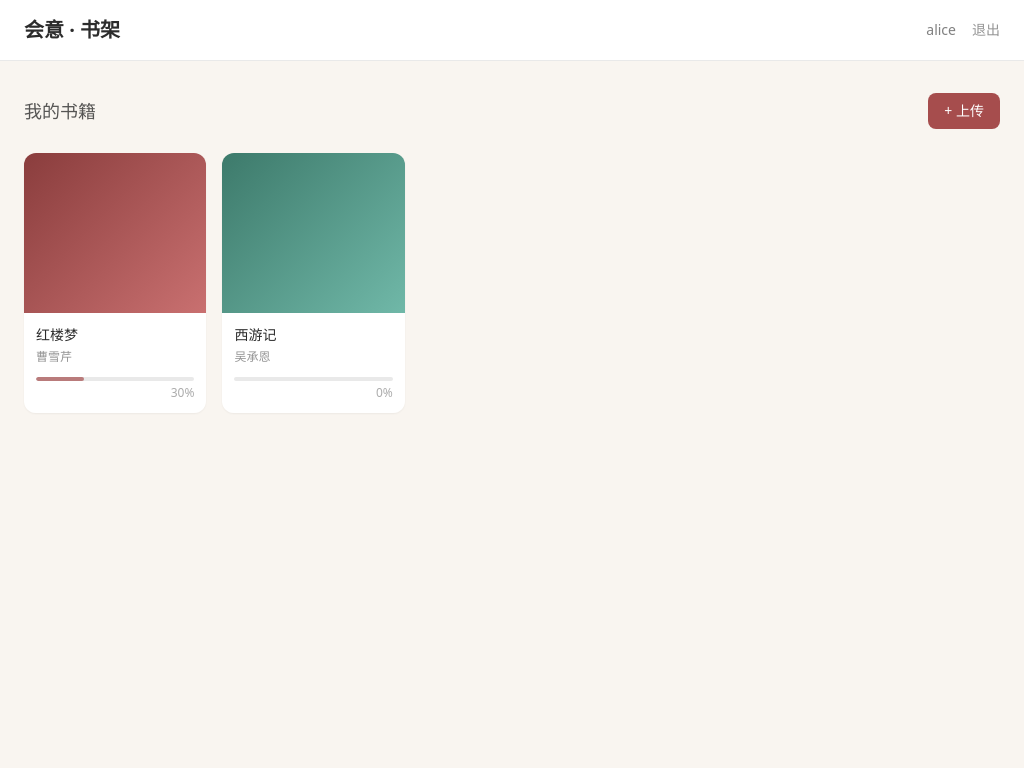
Test case: BookshelfPage › opens upload modal when upload button is clicked
Click the button "+ 上传" at [964, 111], box x1=928 y1=93 x2=1000 y2=129
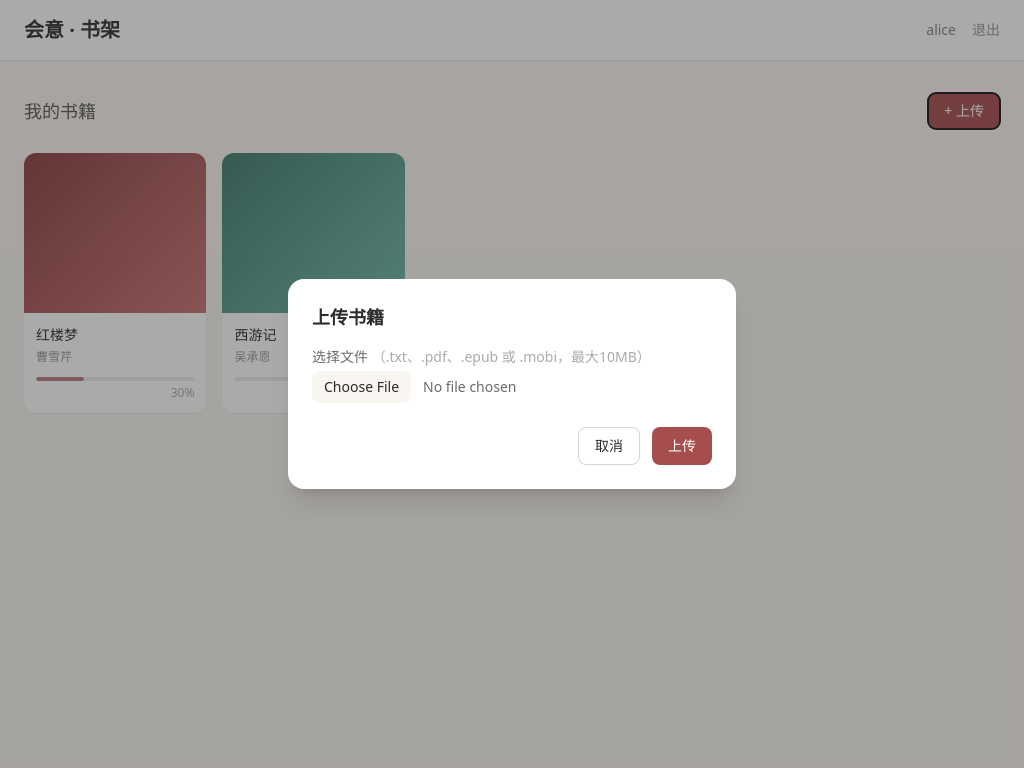
Expected: the heading "上传书籍" is shown, x1=312 y1=305 x2=384 y2=329
